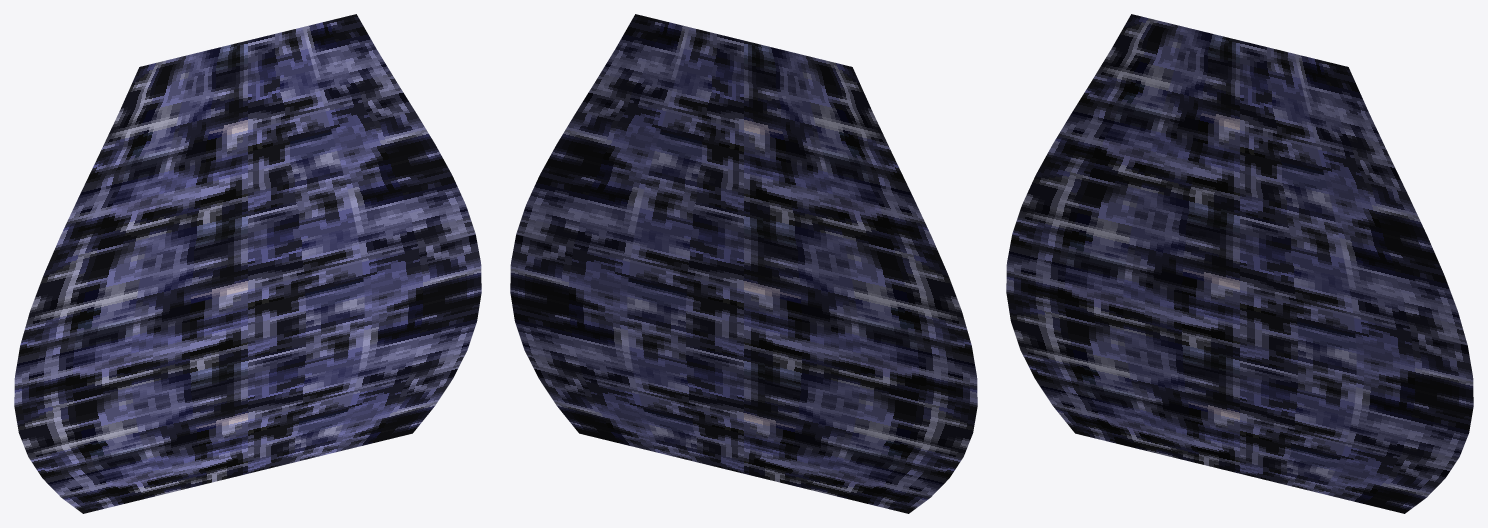
The model's file is pref_fxui_changeskintodefault_flicker.fbx.
3 renders of one model, left to right at view 1: azimuth 30°, elevation 25°; view 2: azimuth 150°, elevation 25°; view 3: azimuth 330°, elevation 25°, orthographic.
Parts seen in each view (by area): view 1: role; view 2: role; view 3: role.
Boxes of the visible parts, left/top/right/bottom form: role: left=14, top=14, right=481, bottom=513; role: left=510, top=14, right=977, bottom=513; role: left=1006, top=14, right=1473, bottom=513.
Bounding box in the file's own units: 568 × 504 × 0.000504.
